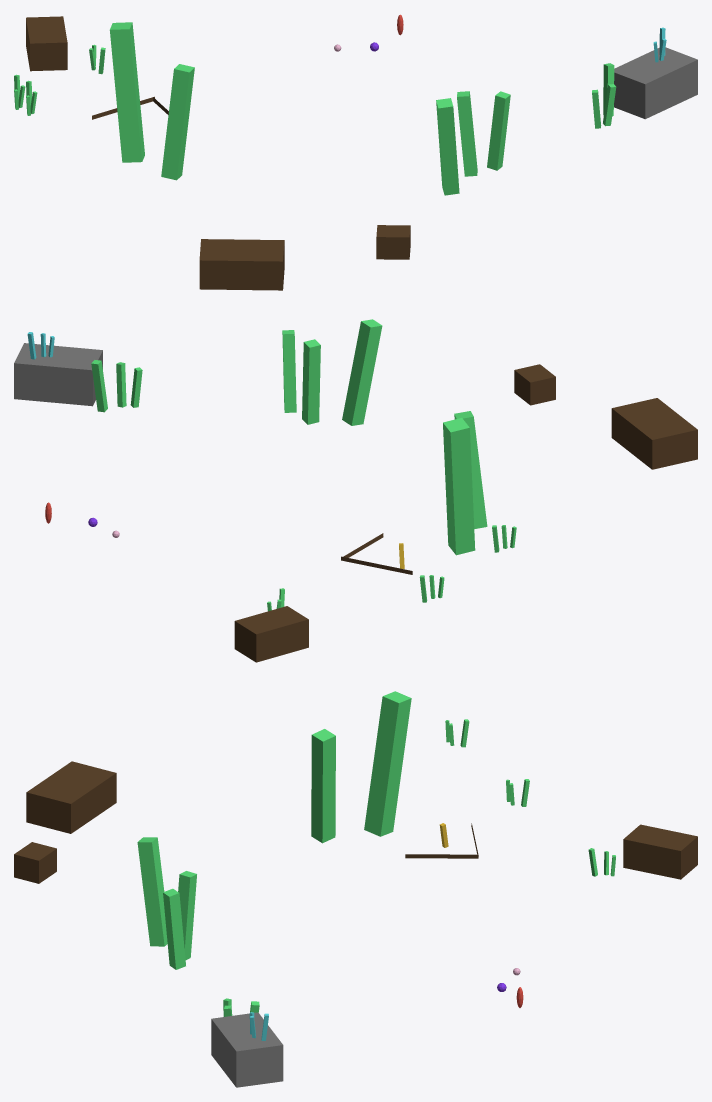
File: pokemon_blockout-items-DELETE.fbx
3 renders of one model, top to bottom at view 1: azimuth 30°, elevation 25°; view 2: azimuth 150°, elevation 25°; view 3: azimuth 270°, elevation 25°, orthographic. The views are drawn at different scales.
Visible parts, largest first — view 1: giant muschrooms (front).001, rock01.001, rock or log? 01.001, green muschrooms.001, rock or log? 02.001, rock or log? 01.002, green muschrooms (smaller).001; view 2: green muschrooms.001, giant muschrooms (front).001, rock or log? 01.001, rock01.001, rock or log? 02.001, rock or log? 01.002, green muschrooms (smaller).001, fence.001; view 3: giant muschrooms (front).001, rock or log? 01.001, green muschrooms.001, rock01.001, rock or log? 02.001, rock or log? 01.002.
Boxes of the visible parts, x1,y1,x2,y2 form: giant muschrooms (front).001: (109, 22, 194, 180); rock01.001: (614, 47, 697, 119); rock or log? 01.001: (199, 239, 284, 290); green muschrooms.001: (436, 91, 510, 195); rock or log? 02.001: (26, 16, 67, 71); rock or log? 01.002: (376, 225, 410, 259); green muschrooms (smaller).001: (592, 63, 616, 128); green muschrooms.001: (282, 319, 382, 425); giant muschrooms (front).001: (443, 411, 487, 555); rock or log? 01.001: (611, 398, 697, 469); rock01.001: (14, 343, 102, 406); rock or log? 02.001: (234, 606, 308, 662); rock or log? 01.002: (514, 364, 555, 405); green muschrooms (smaller).001: (91, 360, 142, 412); fence.001: (341, 533, 412, 574); giant muschrooms (front).001: (311, 691, 411, 843); rock or log? 01.001: (26, 761, 116, 833); green muschrooms.001: (137, 837, 196, 969); rock01.001: (211, 1012, 283, 1087); rock or log? 02.001: (623, 824, 697, 879); rock or log? 01.002: (14, 842, 56, 883).
Size of the model in its own units: 14722 by 3416 by 14476.
